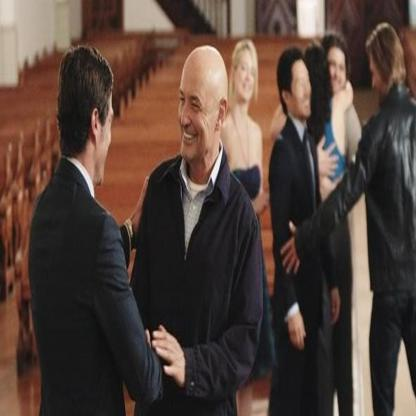face: (180, 69, 219, 161), (90, 103, 115, 183), (289, 65, 312, 117), (371, 54, 391, 101), (237, 52, 255, 100), (327, 51, 346, 95)
